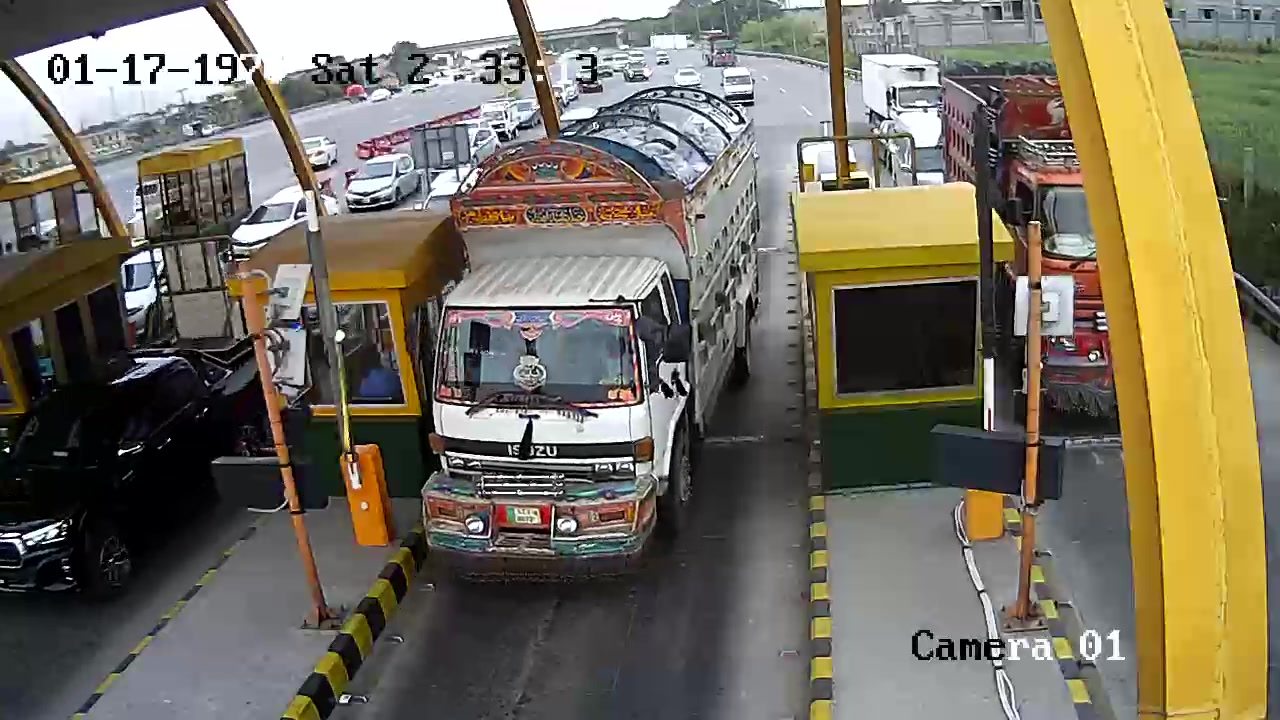F5: (417, 85, 777, 572)
